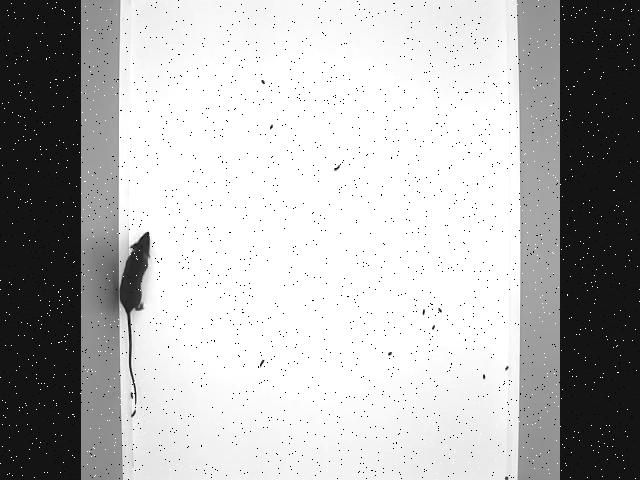Tikus: (118, 228, 154, 408)
